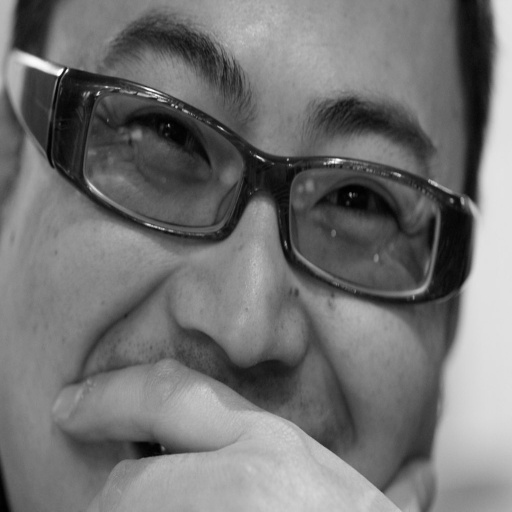hand: (49, 354, 438, 511)
